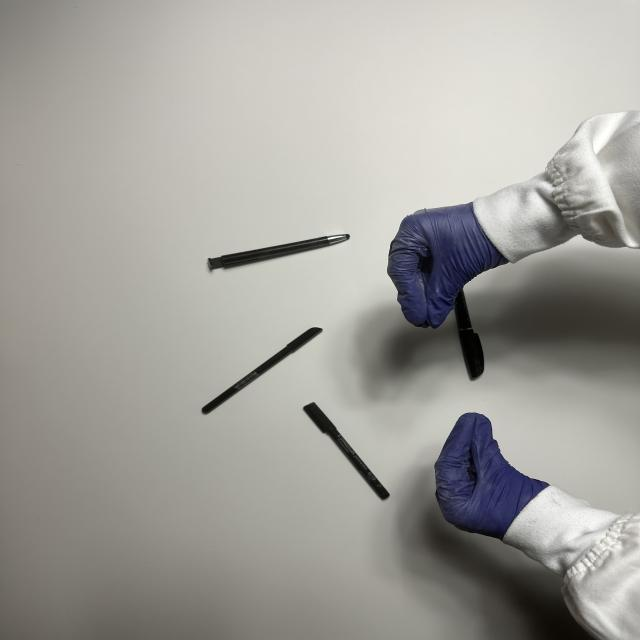gloves_contaminated: (388, 203, 508, 328), (388, 204, 508, 328), (435, 413, 549, 540)
